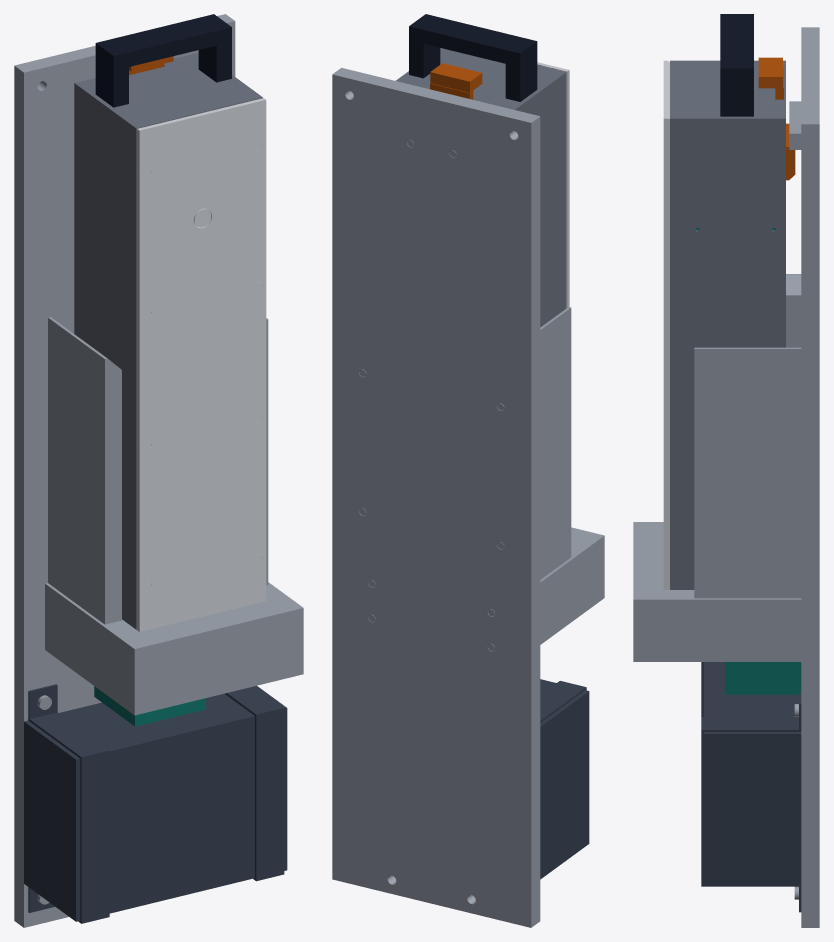
3 renders of one model, left to right at view 1: azimuth 30°, elevation 25°; view 2: azimuth 150°, elevation 25°; view 3: azimuth 270°, elevation 25°, orthographic. The views are drawn at different scales.
Visible parts, largest first — view 1: Wall dock cradle, Pack lid and wake button, Dock charger, 54.6 V 5 A, Pack housing tray, Carry handle, Dock controller (ESP32, CAN); view 2: Wall dock cradle, Pack housing tray, Dock charger, 54.6 V 5 A, Carry handle, Latch pawl and release, Pack lid and wake button; view 3: Wall dock cradle, Pack housing tray, Dock charger, 54.6 V 5 A, Pack lid and wake button, Carry handle, Dock controller (ESP32, CAN), Latch pawl and release.
Part boxes in pixels (x1,y1,x2,y2): Wall dock cradle: (14, 14, 303, 927); Pack lid and wake button: (137, 98, 266, 631); Dock charger, 54.6 V 5 A: (24, 684, 287, 923); Pack housing tray: (74, 53, 262, 629); Carry handle: (95, 14, 231, 107); Dock controller (ESP32, CAN): (94, 686, 205, 726); Wall dock cradle: (332, 67, 604, 927); Pack housing tray: (396, 48, 566, 327); Dock charger, 54.6 V 5 A: (540, 679, 589, 879); Carry handle: (409, 14, 537, 101); Latch pawl and release: (430, 63, 482, 99); Pack lid and wake button: (537, 62, 569, 308); Wall dock cradle: (633, 27, 819, 927); Pack housing tray: (670, 60, 785, 589); Dock charger, 54.6 V 5 A: (701, 662, 801, 912); Pack lid and wake button: (663, 60, 669, 589); Carry handle: (720, 14, 753, 116); Dock controller (ESP32, CAN): (725, 662, 801, 694); Latch pawl and release: (758, 57, 795, 180).
Size of the model in its own units: 0.15 by 0.605 by 0.122.
